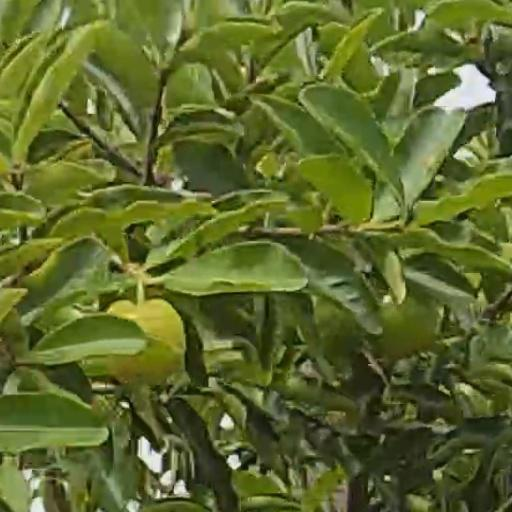acerola_verde: (107, 302, 183, 378)
